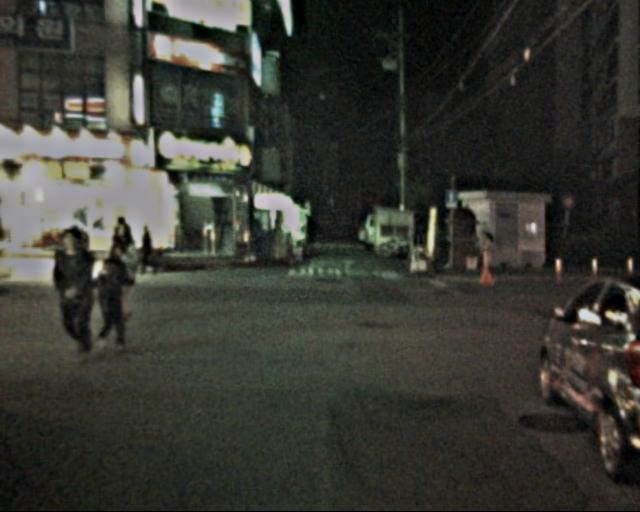person: (49, 222, 107, 356), (95, 252, 137, 353), (107, 210, 141, 293), (136, 215, 163, 280), (467, 223, 489, 276)
